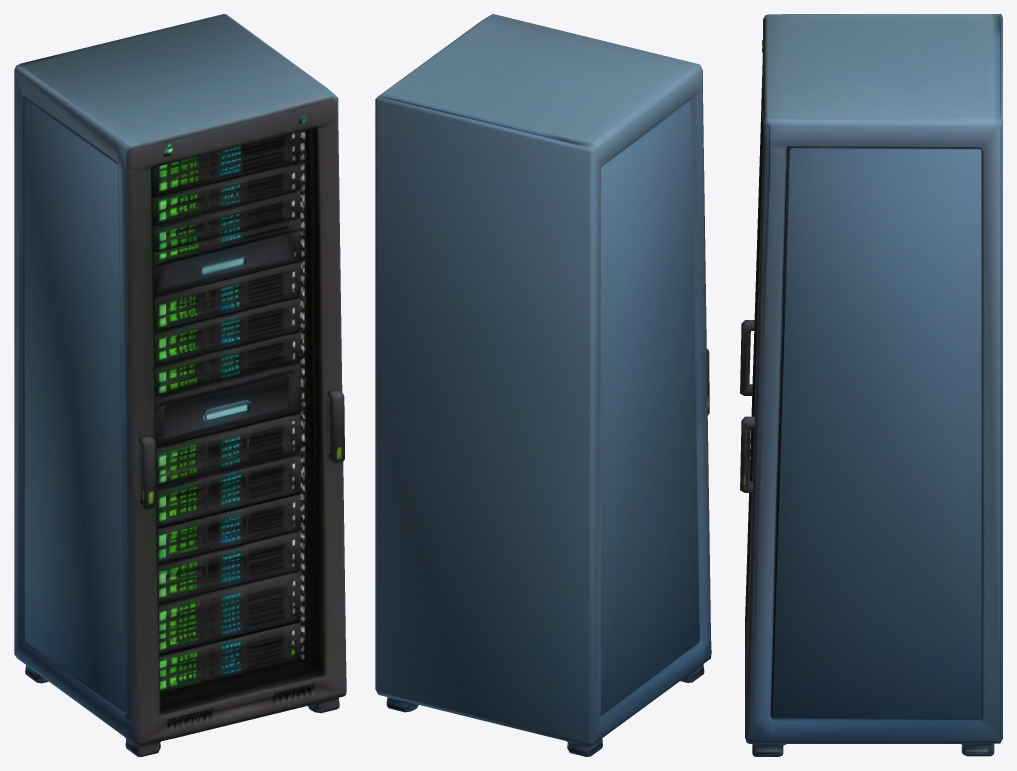
The model's file is server_rack_c2999a18_v4.glb.
The picture shows the model from 3 angles, left to right: view 1: azimuth 30°, elevation 25°; view 2: azimuth 150°, elevation 25°; view 3: azimuth 270°, elevation 25°; orthographic projection. The views are drawn at different scales.
Parts seen in each view (by area): view 1: material; view 2: material; view 3: material.
Boxes of the visible parts, <box> form: material: <box>14,14,346,756</box>; material: <box>375,14,711,756</box>; material: <box>740,14,1002,756</box>.
Size of the model in its own units: 0.7049 by 1.9 by 0.7085.
1 material, 1 textured.
